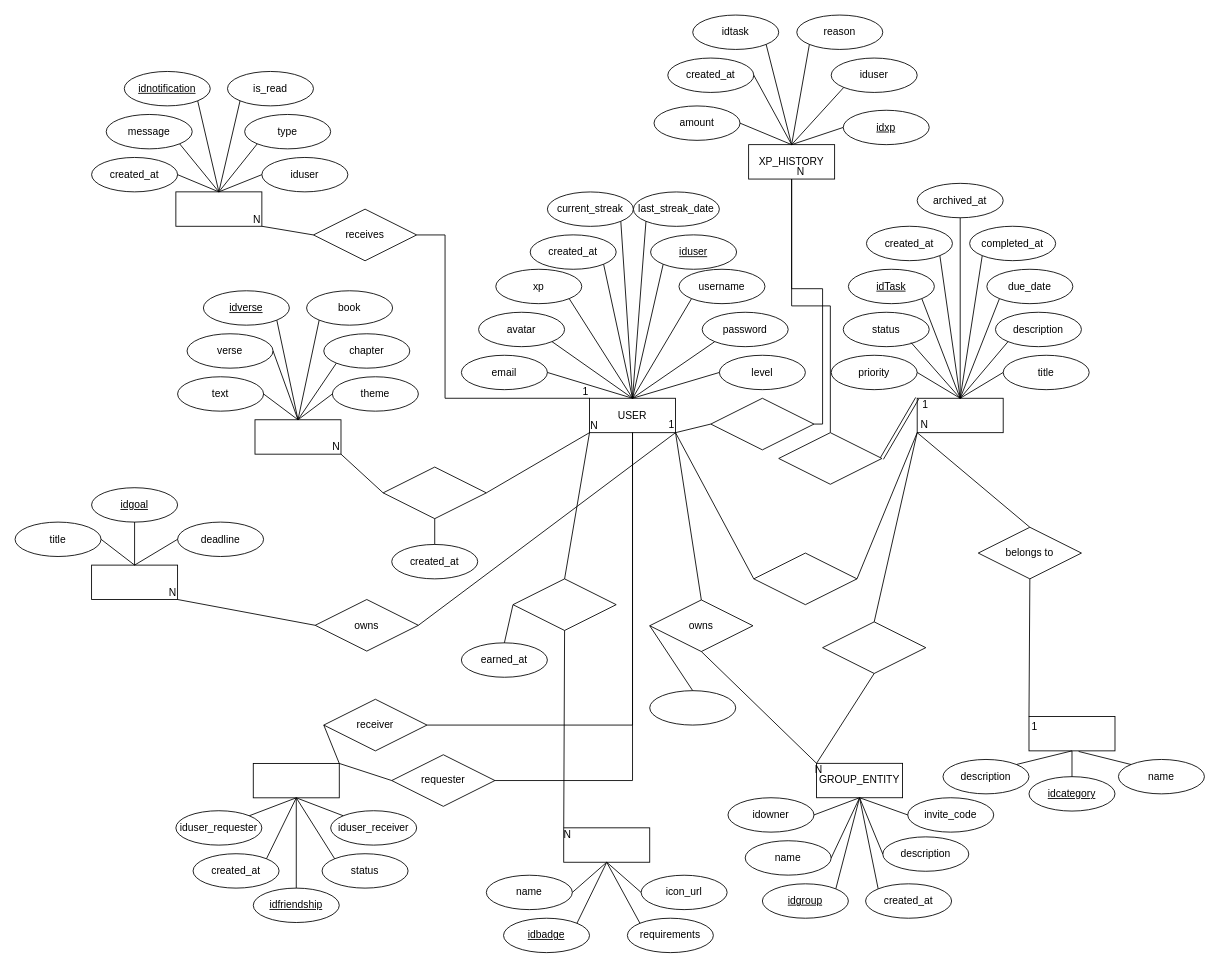
The diagram is 1219 pixels wide and 968 high, and some of its shapes have lost their labels. The box of each missing label's shape, as (x1, y1, x2, y2) in pixels:
achieves: (512, 578, 616, 630)
associated to: (822, 621, 926, 673)
BADGE: (563, 827, 650, 862)
BIBLE_VERSE: (254, 419, 341, 454)
can favorite: (382, 466, 486, 519)
CATEGORY: (1028, 716, 1115, 751)
creates: (753, 552, 857, 605)
FRIENDSHIP: (252, 763, 339, 798)
GOAL: (91, 564, 178, 600)
has: (710, 397, 814, 450)
NOTIFICATION: (175, 191, 262, 226)
originates: (778, 432, 882, 484)
role: (649, 690, 736, 725)
TASK: (916, 397, 1003, 433)
